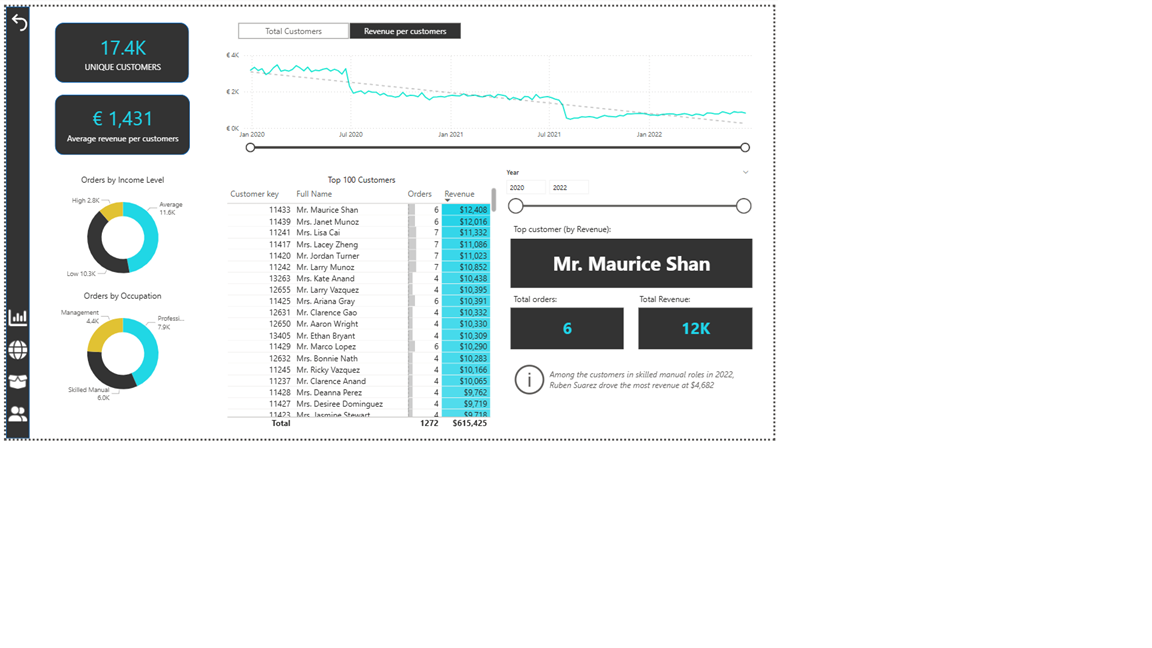

The page's visual inventory and layout, read from the dashboard file:
{"tool":"powerbi","page":{"name":"Customer Detail","canvas":[1280,720],"ordinal":3},"visuals":[{"type":"shape","box":[82.1,27.4,223.5,100],"z":0},{"type":"actionButton","box":[0,498.8,39.4,40.3],"z":0,"group":"g1"},{"type":"shape","box":[82.1,146.1,225.1,100.4],"z":1000},{"type":"actionButton","box":[0,551.9,39.4,40.3],"z":1000,"group":"g1"},{"type":"card","fields":{"Values":["Measure Table.Total Customers"]},"box":[82.1,27.2,225.9,100],"z":2000},{"type":"actionButton","box":[0,605.1,39.4,40.3],"z":2000,"group":"g1"},{"type":"card","fields":{"Values":["Measure Table.Average revenue per customer"]},"box":[82.1,145.7,225.9,100],"z":3000},{"type":"actionButton","box":[0,658.2,39.4,40.3],"z":3000,"group":"g1"},{"type":"shape","title":"Left nav","box":[0,0,39.2,719.6],"z":4000},{"type":"lineChart","title":"WEEKLY CUSTOMERS","fields":{"Category":["Calendar Lookup.Start of Year Hierarchy.Start of Year","Calendar Lookup.Start of Year Hierarchy.Start of Month","Calendar Lookup.Start of Year Hierarchy.Start of Week","Calendar Lookup.Start of Year Hierarchy.Date"],"Y":["Measure Table.Average revenue per customers"]},"box":[362.3,66.5,897.4,179.3],"z":5000},{"type":"donutChart","title":"Orders by Income Level","fields":{"Category":["Customer Lookup.Income Level"],"Y":["Measure Table.Total Orders"]},"box":[81.5,277.8,225.9,194.4],"z":6000},{"type":"donutChart","title":"Orders by Occupation","fields":{"Category":["Customer Lookup.Occupation"],"Y":["Measure Table.Total Orders"]},"box":[81.5,472.2,225.9,194.4],"z":7000},{"type":"tableEx","title":"Top 100 Customers","fields":{"Values":["Customer Lookup.CustomerKey","Customer Lookup.Full Name","Measure Table.Total Orders","Measure Table.Total Revenue"]},"box":[362.7,278.5,459.9,429.1],"z":8000},{"type":"card","fields":{"Values":["Measure Table.Full Name (customer detail)"]},"box":[841.8,386.8,403.2,82.3],"z":9000},{"type":"card","fields":{"Values":["Measure Table.Total orders (customer detail)"]},"box":[841.8,500.9,188.7,69.4],"z":10000},{"type":"card","fields":{"Values":["Measure Table.Total Revenue (customer detail)"]},"box":[1054.7,500.9,190.3,69.4],"z":11000},{"type":"textbox","box":[841.8,354.5,188.7,37.1],"z":12000},{"type":"textbox","box":[1051.5,472.3,188.7,37.1],"z":13000},{"type":"textbox","box":[841.8,472.3,188.7,37.1],"z":14000},{"type":"slicer","fields":{"Values":["Calendar Lookup.Year"]},"box":[822.1,264.2,429.9,95.8],"z":15000},{"type":"actionButton","box":[842,589.4,409.7,63.1],"z":16000},{"type":"actionButton","box":[3.2,6.5,38.9,38.9],"z":17000},{"type":"actionButton","box":[0,0,42.1,40.3],"z":18000},{"type":"group","id":"g1","title":"Page navigation","box":[0,498.8,39.4,199.7],"z":19000},{"type":"slicer","fields":{"Values":["Customer Metric Selection.Customer Metric Selection"]},"box":[362.3,20.3,420.5,37],"z":20000}]}

Visuals, with their boxes on the page's 1280x720 design canvas (x1, y1, x2, y2). These are canvas units, not pixel positions in the 1152x648 screenshot, which may show the page scaled, cropped or inside an application window:
shape: locate(82, 27, 306, 127)
actionButton: locate(0, 499, 39, 539)
shape: locate(82, 146, 307, 246)
actionButton: locate(0, 552, 39, 592)
card - Measure Table.Total Customers: locate(82, 27, 308, 127)
actionButton: locate(0, 605, 39, 645)
card - Measure Table.Average revenue per customer: locate(82, 146, 308, 246)
actionButton: locate(0, 658, 39, 698)
"Left nav" shape: locate(0, 0, 39, 720)
"WEEKLY CUSTOMERS" lineChart: locate(362, 66, 1260, 246)
"Orders by Income Level" donutChart: locate(82, 278, 307, 472)
"Orders by Occupation" donutChart: locate(82, 472, 307, 667)
"Top 100 Customers" tableEx: locate(363, 278, 823, 708)
card - Measure Table.Full Name (customer detail): locate(842, 387, 1245, 469)
card - Measure Table.Total orders (customer detail): locate(842, 501, 1030, 570)
card - Measure Table.Total Revenue (customer detail): locate(1055, 501, 1245, 570)
textbox: locate(842, 354, 1030, 392)
textbox: locate(1052, 472, 1240, 509)
textbox: locate(842, 472, 1030, 509)
slicer - Calendar Lookup.Year: locate(822, 264, 1252, 360)
actionButton: locate(842, 589, 1252, 652)
actionButton: locate(3, 6, 42, 45)
actionButton: locate(0, 0, 42, 40)
"Page navigation" group: locate(0, 499, 39, 698)
slicer - Customer Metric Selection.Customer Metric Selection: locate(362, 20, 783, 57)
